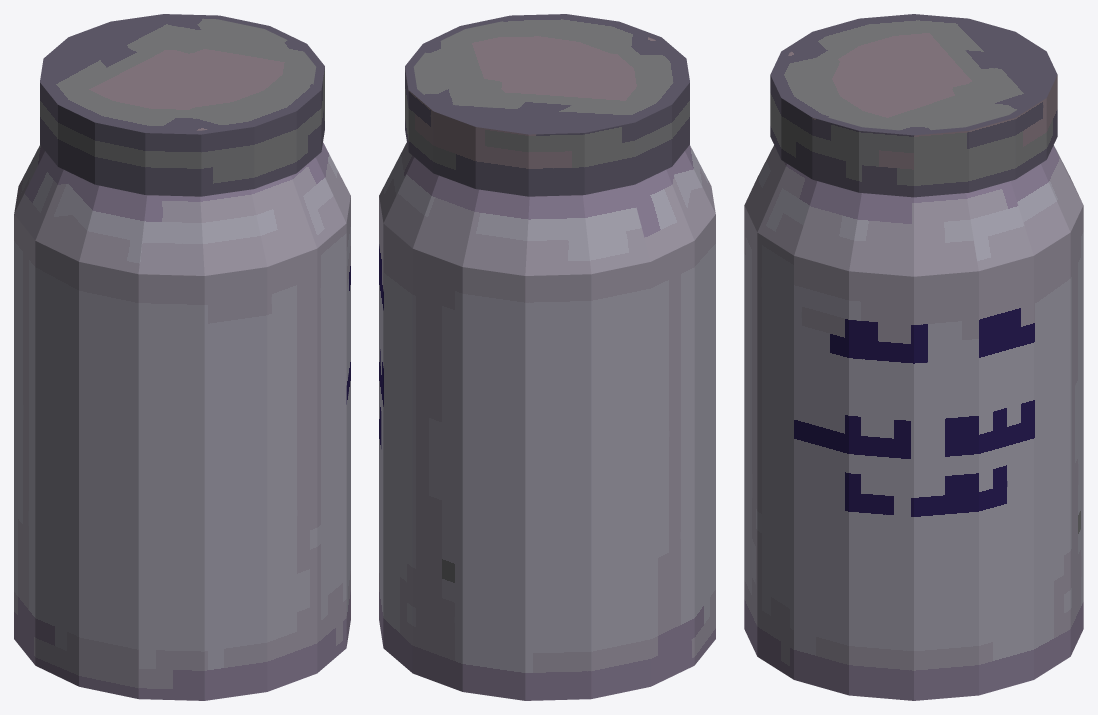
The model's file is Medication1.4.fbx.
The picture shows the model from 3 angles, left to right: view 1: azimuth 30°, elevation 25°; view 2: azimuth 150°, elevation 25°; view 3: azimuth 270°, elevation 25°; orthographic projection.
Parts seen in each view (by area): view 1: Cylinder.003; view 2: Cylinder.003; view 3: Cylinder.003.
Part boxes in pixels (left/top/right/bottom): Cylinder.003: left=14, top=14, right=350, bottom=700; Cylinder.003: left=379, top=14, right=715, bottom=700; Cylinder.003: left=744, top=14, right=1083, bottom=700.
Size of the model in its own units: 198 by 357 by 198.
Materials: 1 (1 with a texture image).
